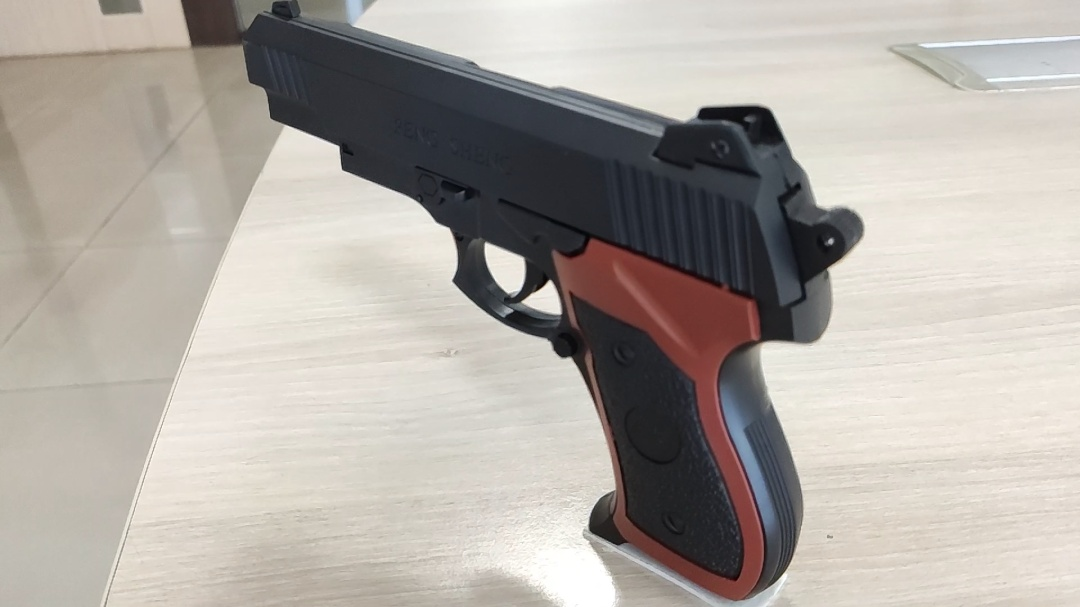gun: (241, 1, 865, 602)
